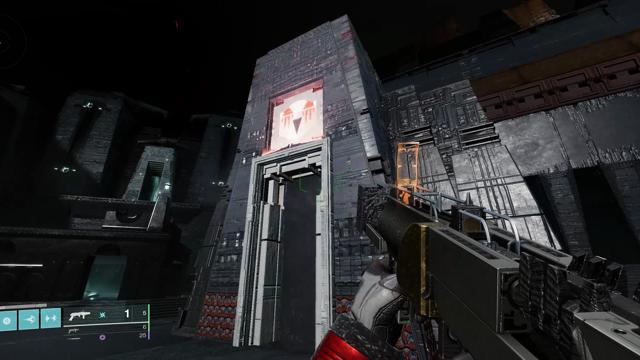give: (279, 100, 316, 140)
